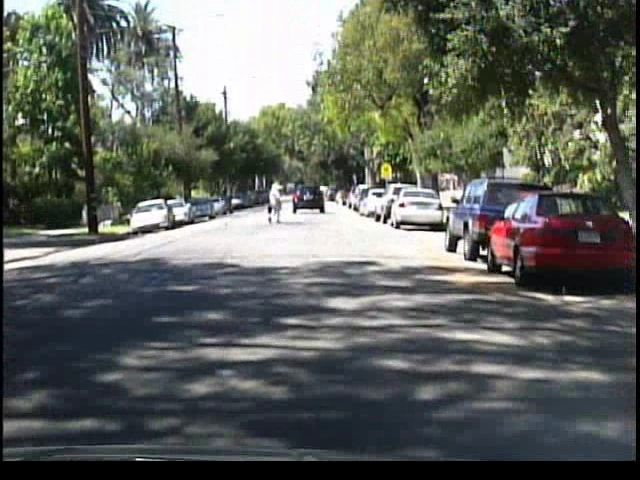person: (262, 169, 288, 217)
